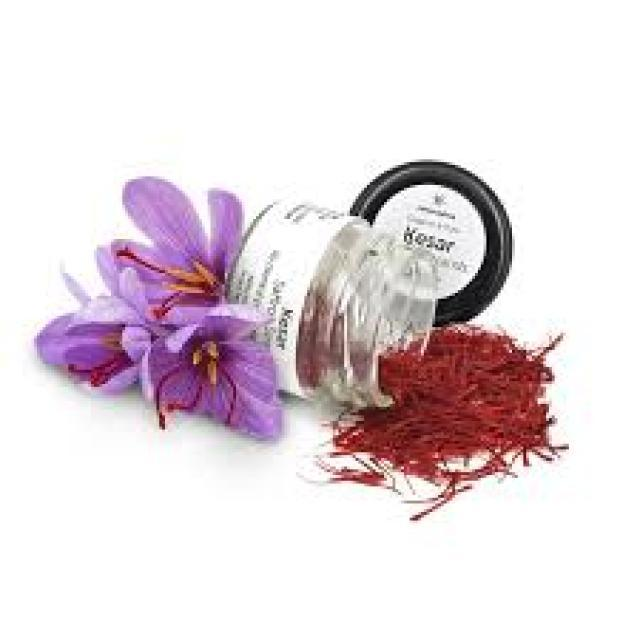Flower: (86, 140, 310, 314), (134, 300, 315, 454), (10, 242, 164, 404)
stigma: (112, 235, 182, 292), (146, 361, 204, 424), (62, 342, 134, 392), (214, 356, 238, 434)
